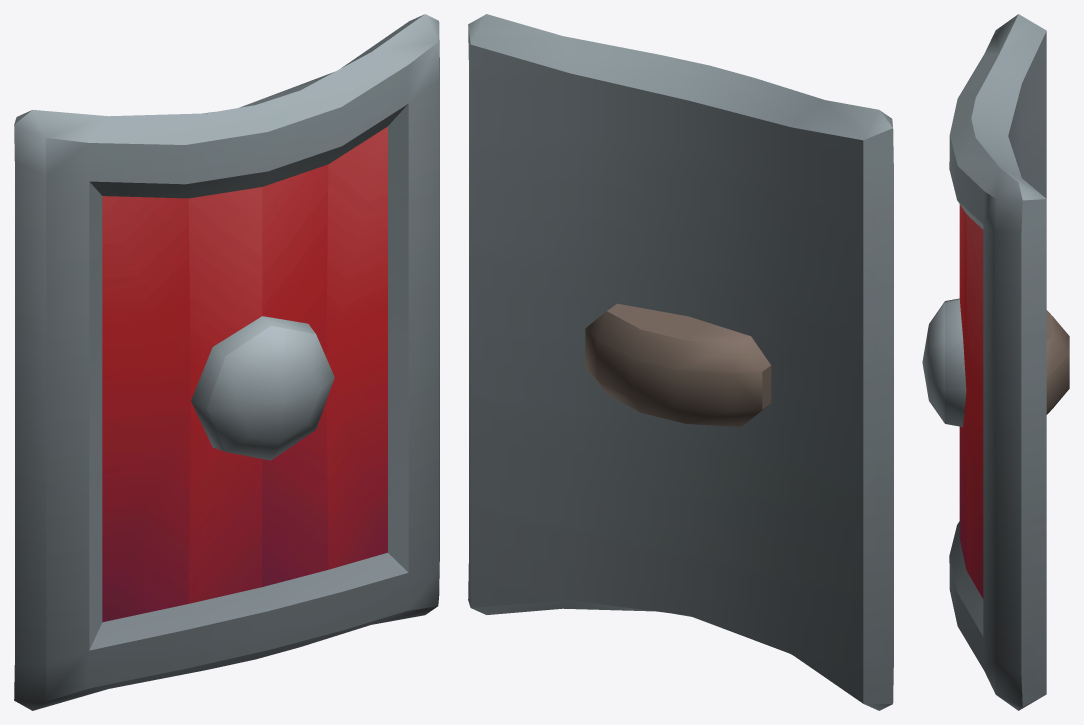
The model's file is kaykit-shield-square-color.glb.
3 renders of one model, left to right at view 1: azimuth 30°, elevation 25°; view 2: azimuth 150°, elevation 25°; view 3: azimuth 270°, elevation 25°, orthographic. The views are drawn at different scales.
Parts seen in each view (by area): view 1: shield_square_color; view 2: shield_square_color; view 3: shield_square_color.
Boxes of the visible parts, bbox=[...] form: shield_square_color: bbox=[14, 14, 439, 710]; shield_square_color: bbox=[468, 14, 893, 710]; shield_square_color: bbox=[922, 14, 1069, 710].
Bounding box in the file's own units: 0.8825 × 1.19 × 0.301.
Materials: 1 (1 with a texture image).
